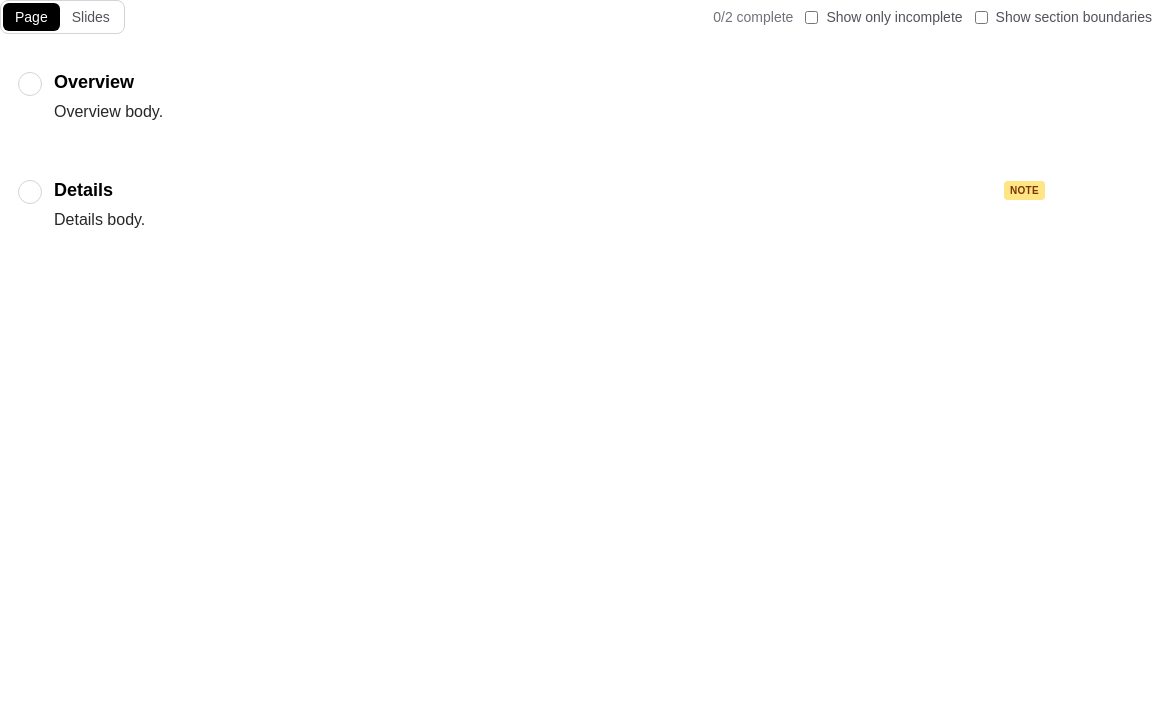
Scenario: ContentBlocks › does not prompt when closing without any unsaved changes
This screenshot has width=1152, height=720.
Step 1. Click the button "Overview" → point(94, 82), box [54,68,1134,96]
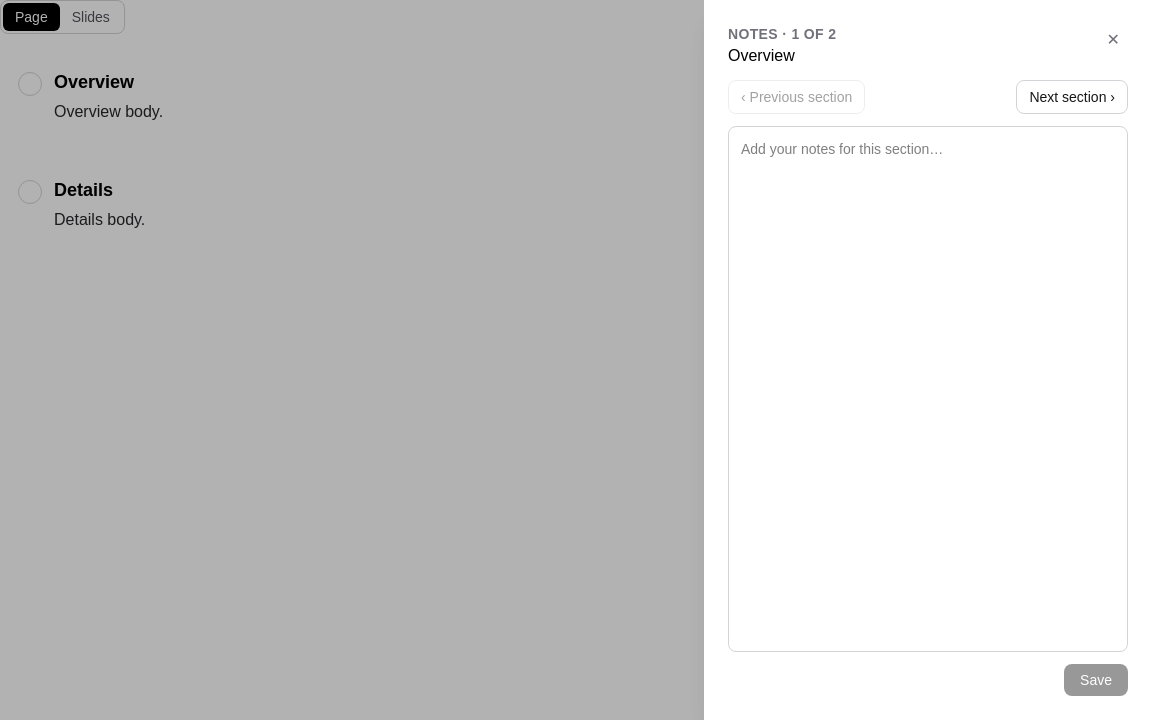
Step 2. Click the button named "Close notes" → point(576, 360), box [0,0,1151,719]
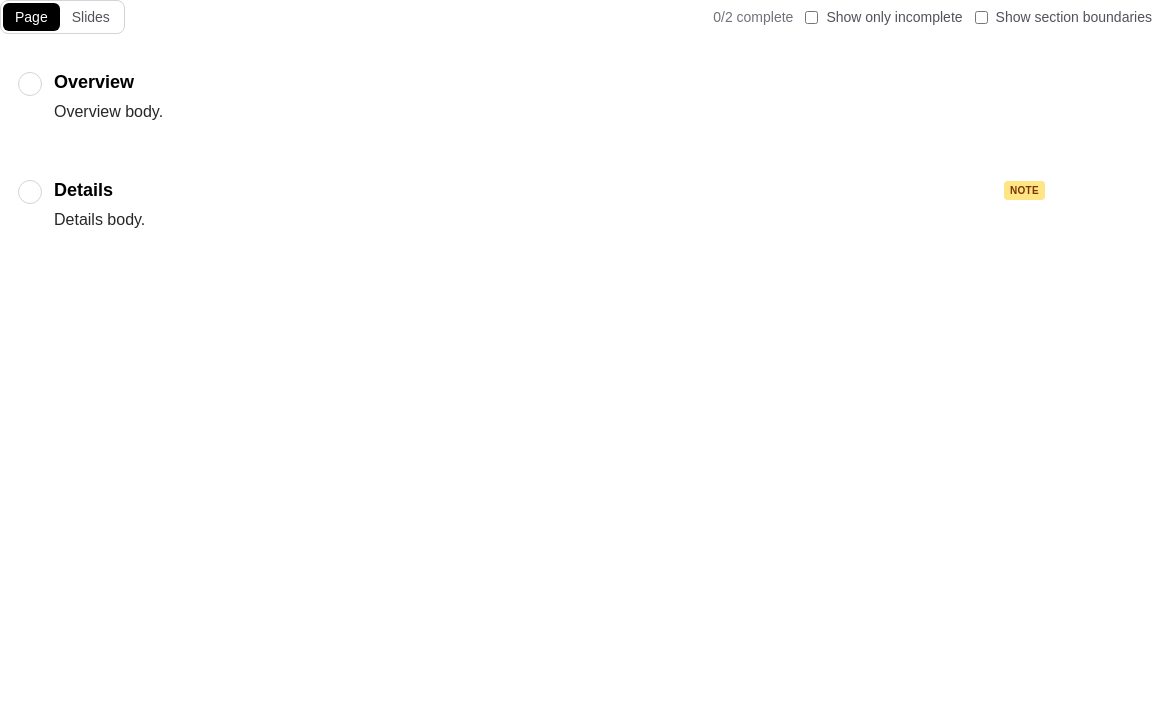
Expected: the dialog is gone
